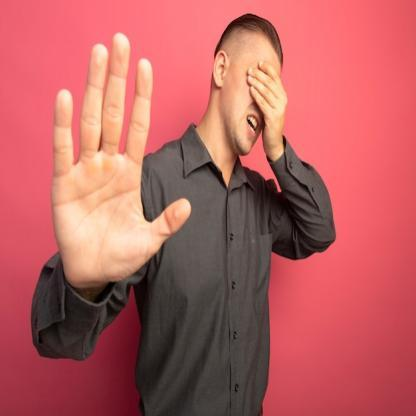stop: (49, 29, 192, 288)
